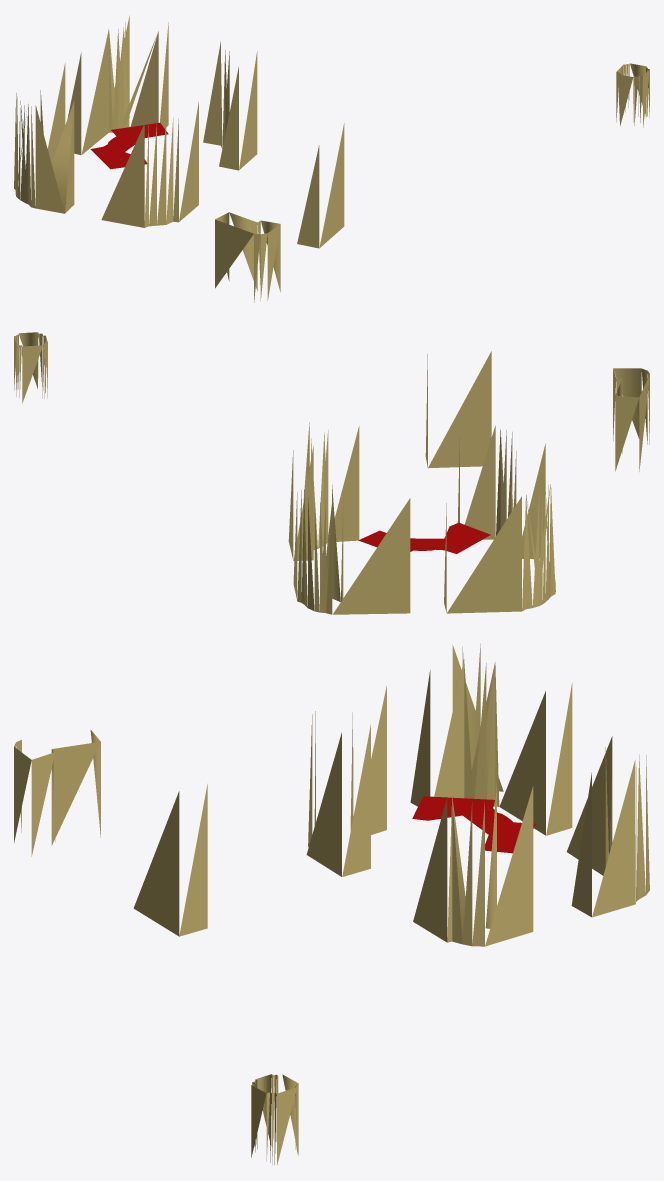
The picture shows the model from 3 angles, top to bottom: view 1: azimuth 30°, elevation 25°; view 2: azimuth 150°, elevation 25°; view 3: azimuth 270°, elevation 25°; orthographic projection. The views are drawn at different scales.
Bounding box in the file's own units: 748 × 135 × 533.
